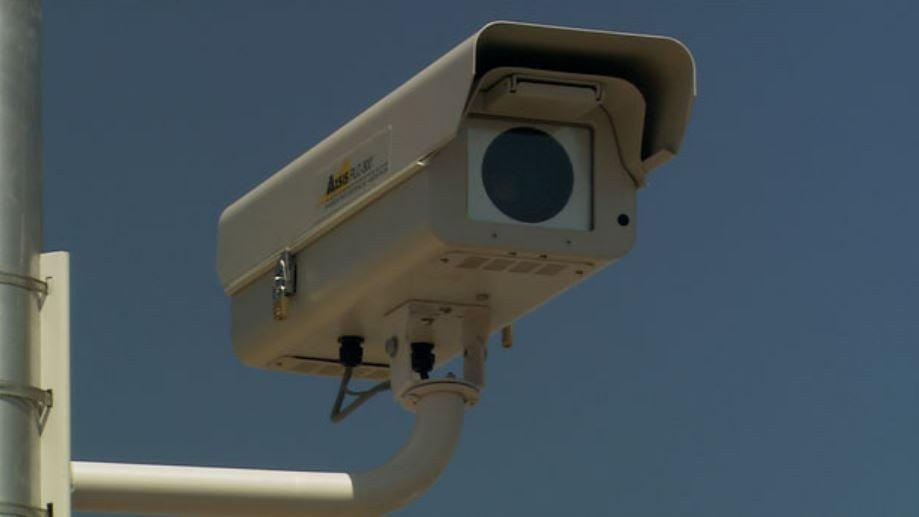Monitor: (214, 18, 697, 395)
